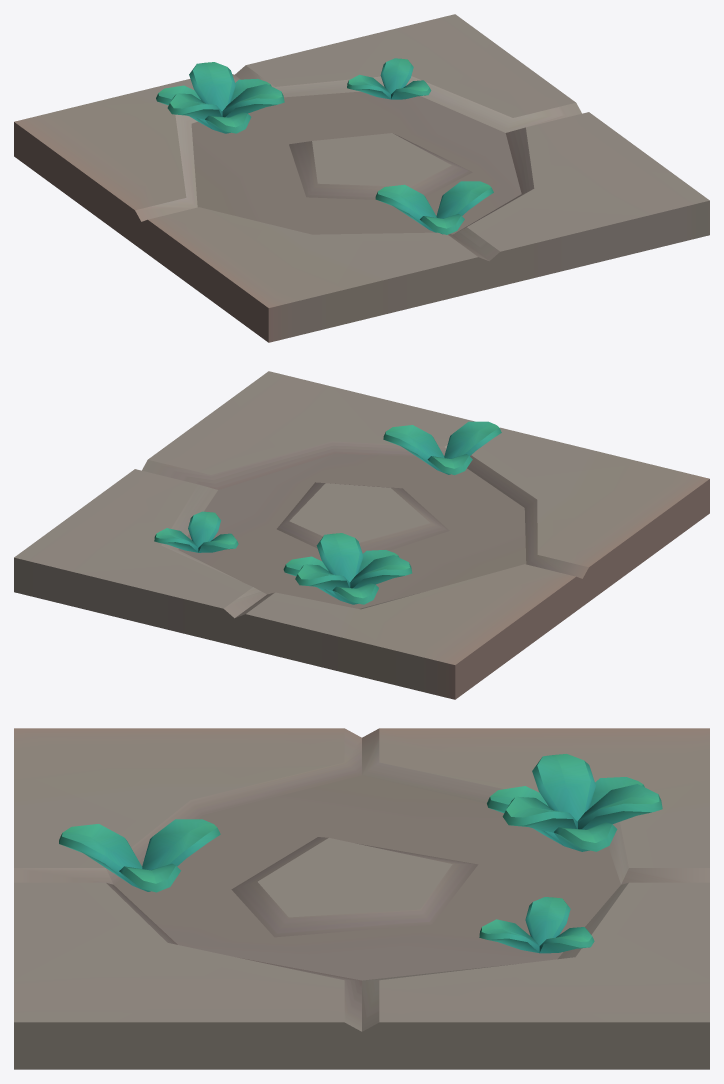
Rendered from floor_tile_small_weeds_A.glb.
The picture shows the model from 3 angles, top to bottom: view 1: azimuth 30°, elevation 25°; view 2: azimuth 150°, elevation 25°; view 3: azimuth 270°, elevation 25°; orthographic projection. The views are drawn at different scales.
Parts seen in each view (by area): view 1: floor_tile_small_weeds_A; view 2: floor_tile_small_weeds_A; view 3: floor_tile_small_weeds_A.
Part boxes in pixels (left/top/right/bottom): floor_tile_small_weeds_A: left=14, top=14, right=709, bottom=342; floor_tile_small_weeds_A: left=14, top=371, right=709, bottom=699; floor_tile_small_weeds_A: left=14, top=728, right=709, bottom=1069.
Bounding box in the file's own units: 2 × 0.2954 × 2.
Materials: 1 (1 with a texture image).
